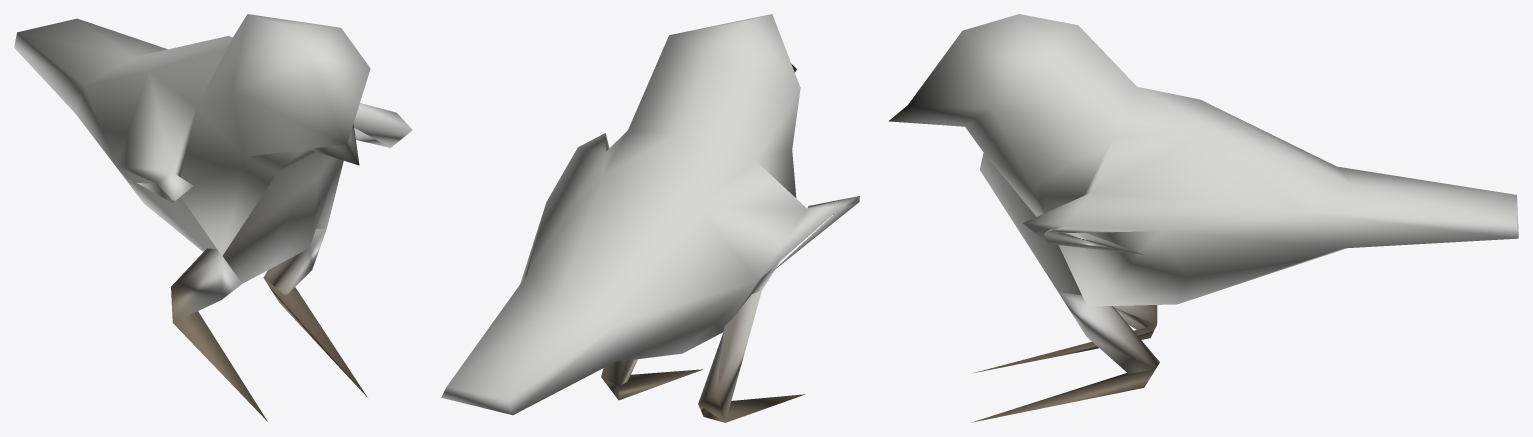
File: sparrow-1.glb
The picture shows the model from 3 angles, left to right: view 1: azimuth 30°, elevation 25°; view 2: azimuth 150°, elevation 25°; view 3: azimuth 270°, elevation 25°; orthographic projection. The views are drawn at different scales.
Parts seen in each view (by area): view 1: sparrow; view 2: sparrow; view 3: sparrow.
Part boxes in pixels (x1=…): sparrow: x1=14, y1=14, x2=412, y2=421; sparrow: x1=441, y1=14, x2=859, y2=422; sparrow: x1=889, y1=14, x2=1518, y2=422.
Size of the model in its own units: 0.0718 by 0.1028 by 0.156.
